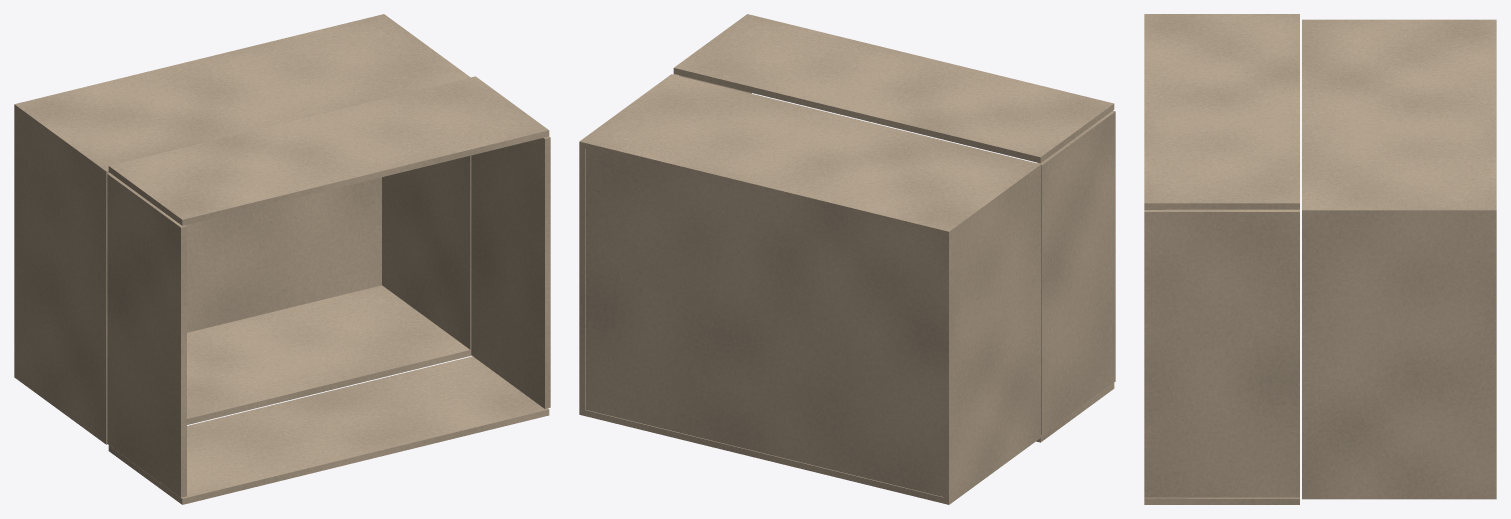
Rendered from Stations__Carton.glb.
The picture shows the model from 3 angles, left to right: view 1: azimuth 30°, elevation 25°; view 2: azimuth 150°, elevation 25°; view 3: azimuth 270°, elevation 25°; orthographic projection. The views are drawn at different scales.
Visible parts, largest first — view 1: /World/Stations/Carton; view 2: /World/Stations/Carton; view 3: /World/Stations/Carton.
Part boxes in pixels (left/top/right/bottom): /World/Stations/Carton: left=14, top=14, right=550, bottom=504; /World/Stations/Carton: left=579, top=14, right=1115, bottom=504; /World/Stations/Carton: left=1144, top=14, right=1496, bottom=504.
Bounding box in the file's own units: 0.255 × 0.188 × 0.199.
Materials: 2 (1 with a texture image).
